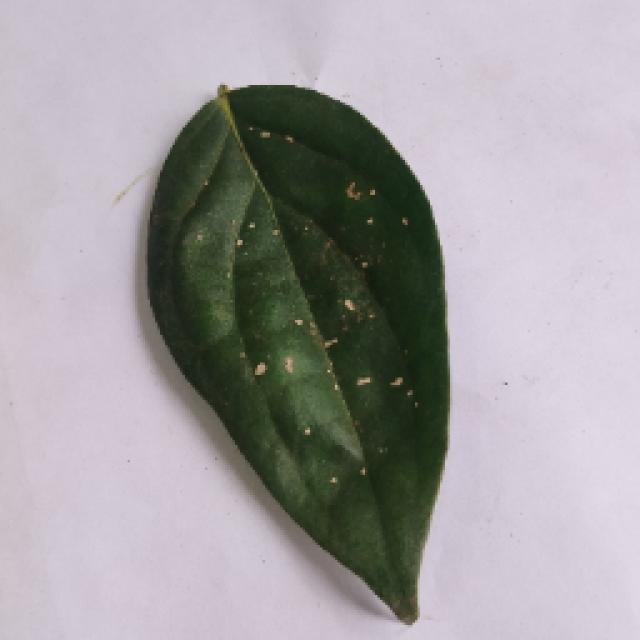pollu-disease: (145, 80, 447, 625)
